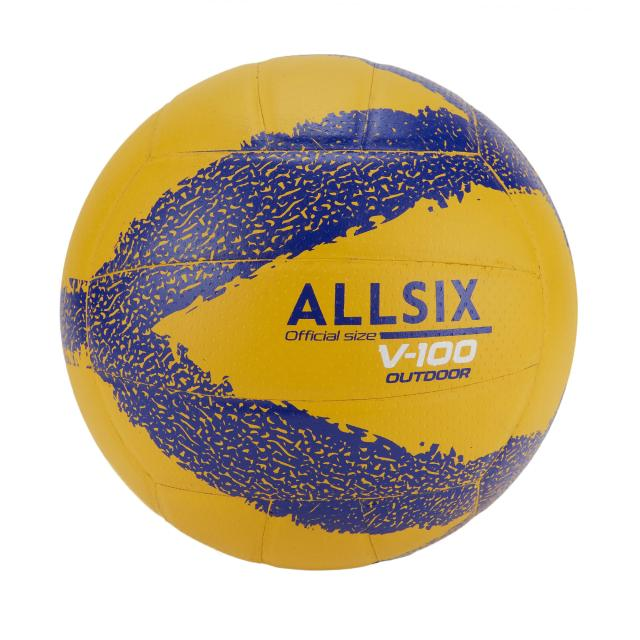Volleyball: (58, 51, 579, 574)
